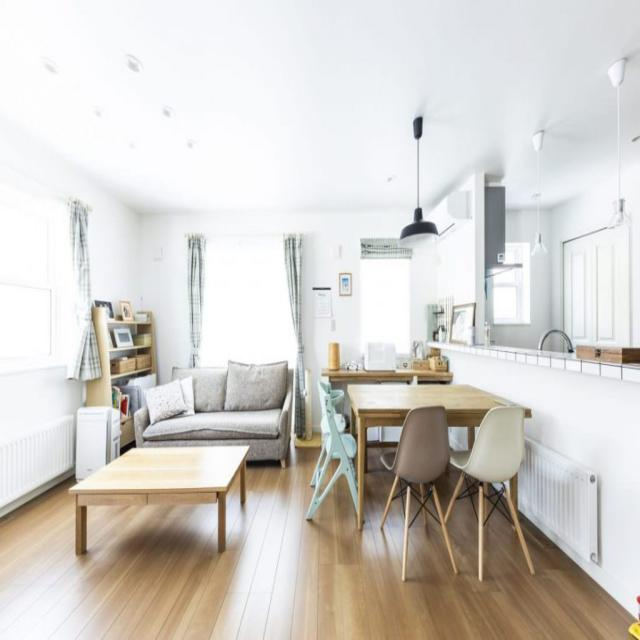natural chair: (380, 408, 457, 582), (460, 404, 528, 578)
natural desk: (346, 376, 525, 532), (61, 436, 252, 556)
natural shelf: (79, 300, 157, 430)
natural sofa: (134, 357, 292, 454)
